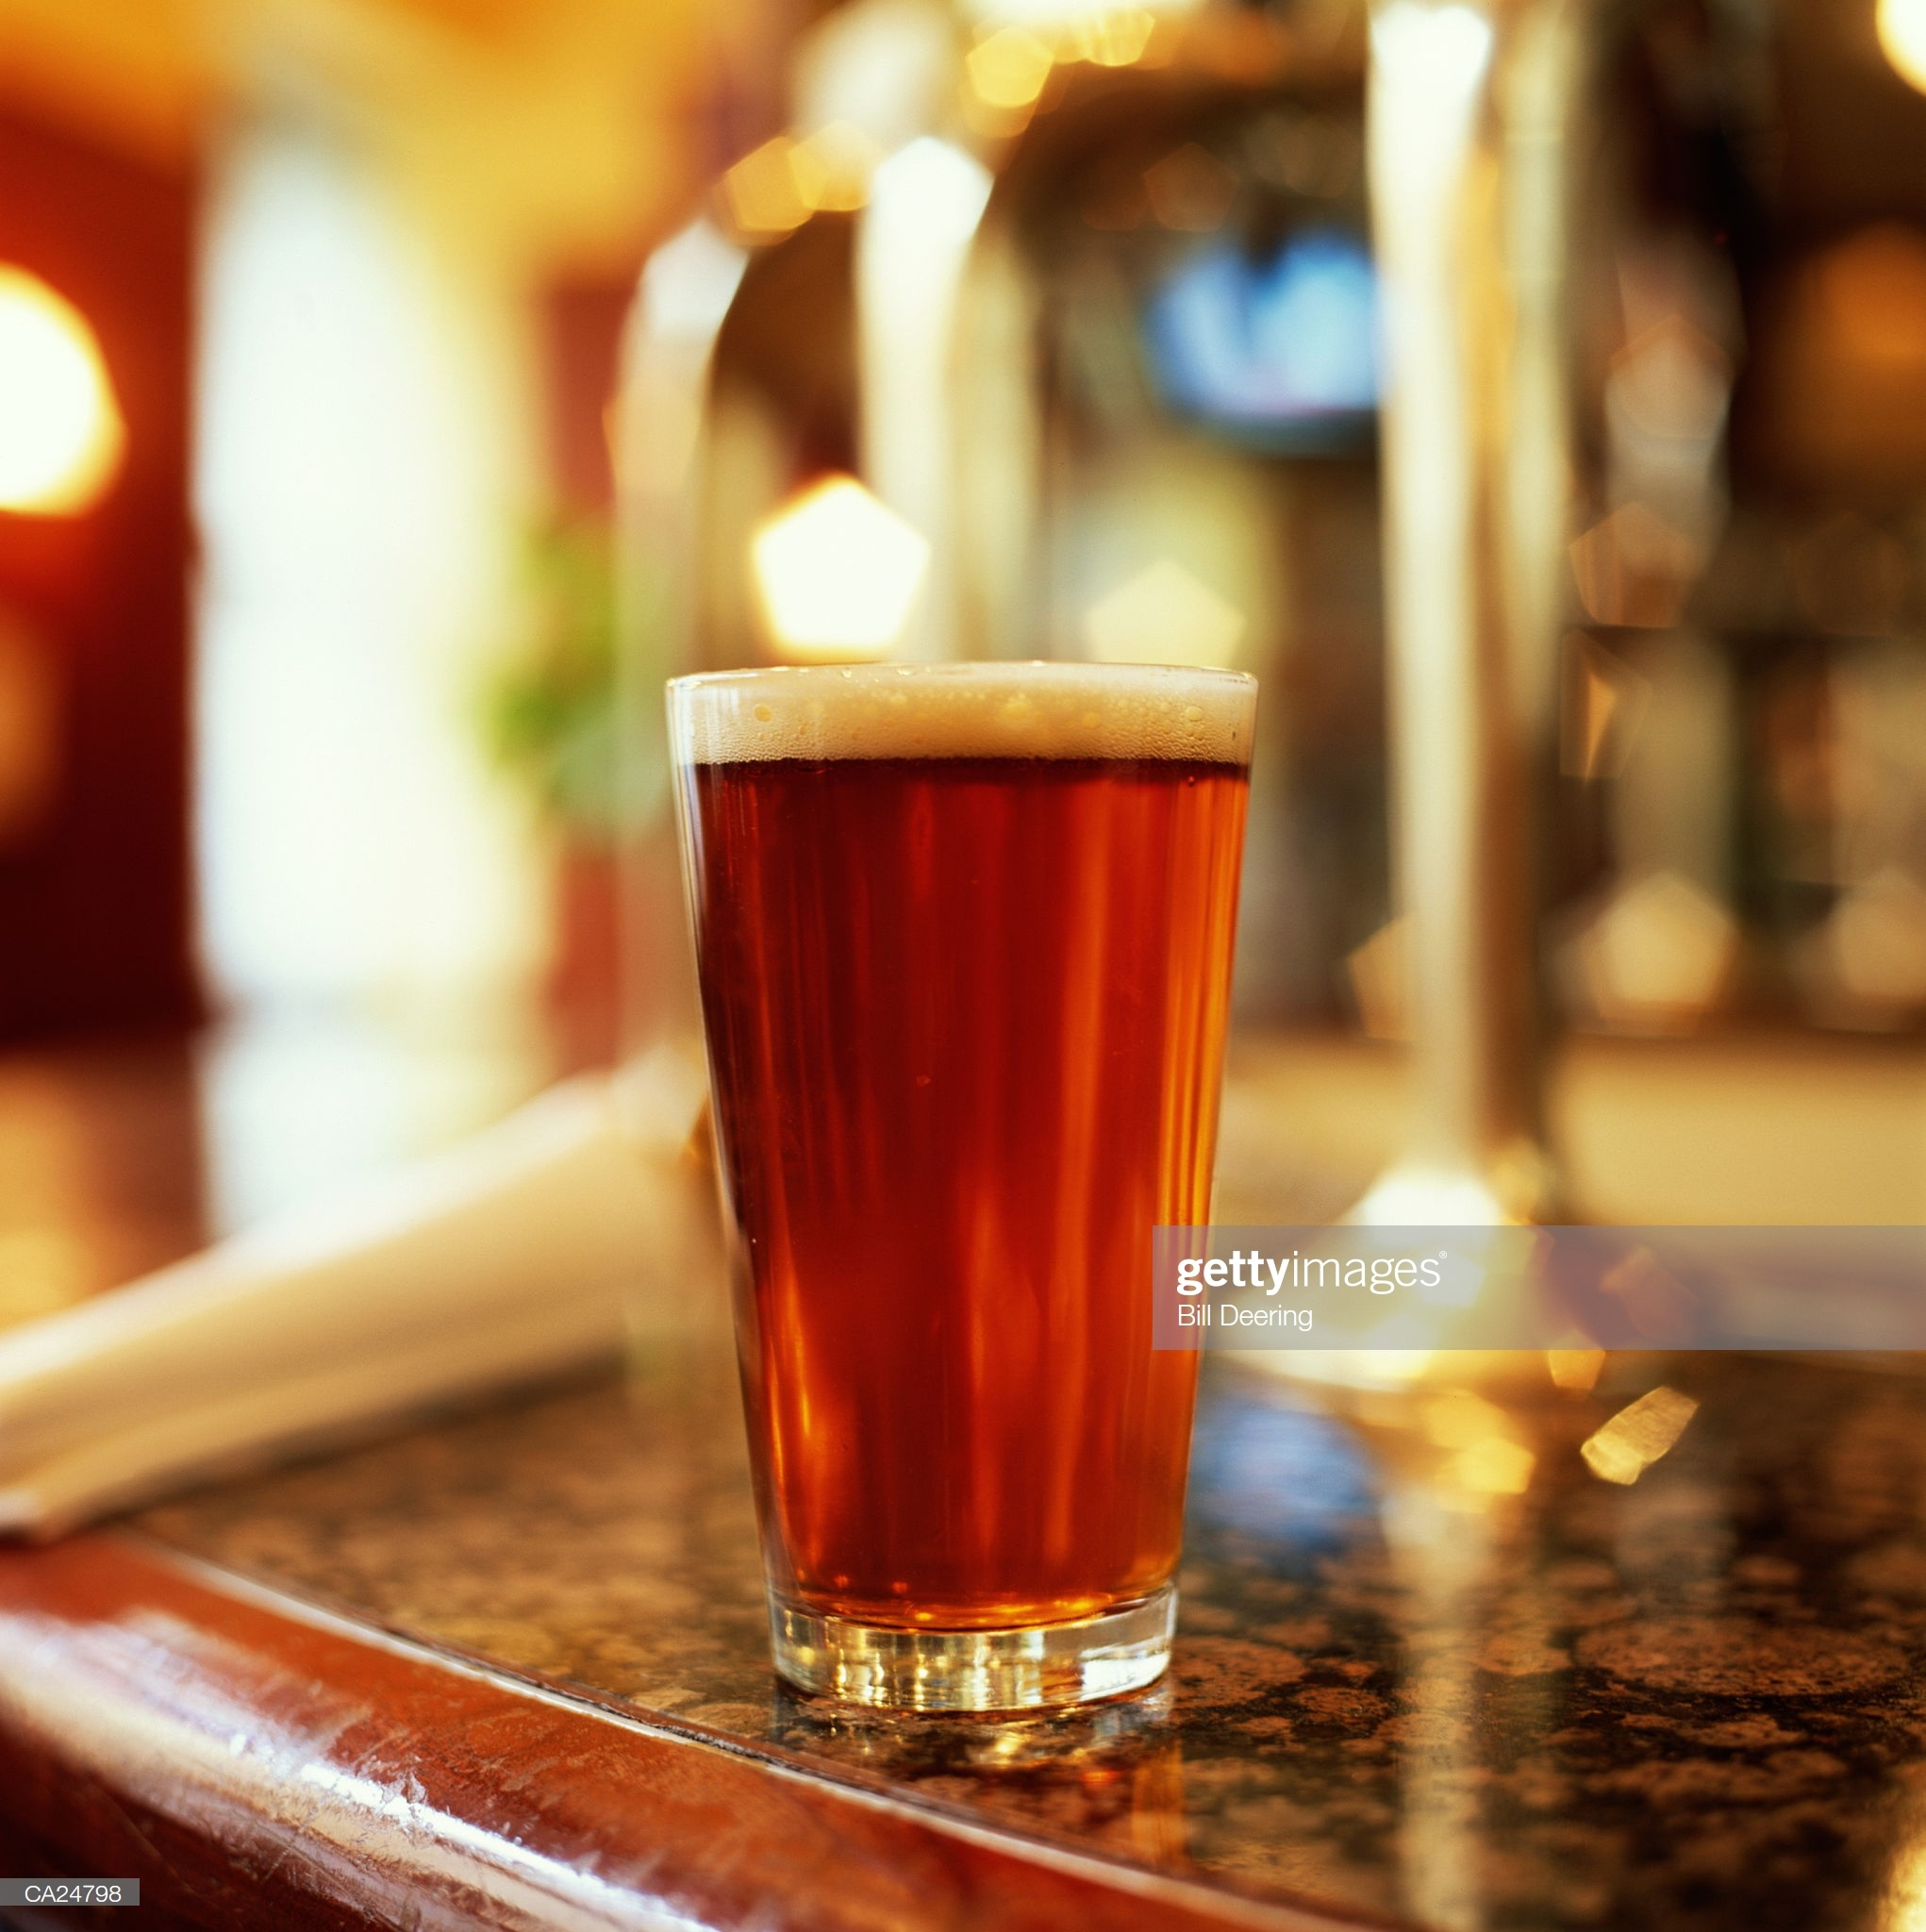glassBeer: (716, 644, 1270, 1685)
